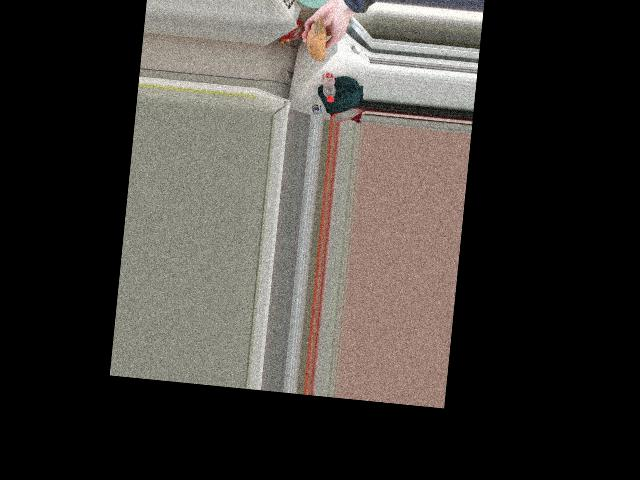sweet_potato: (305, 22, 328, 71)
